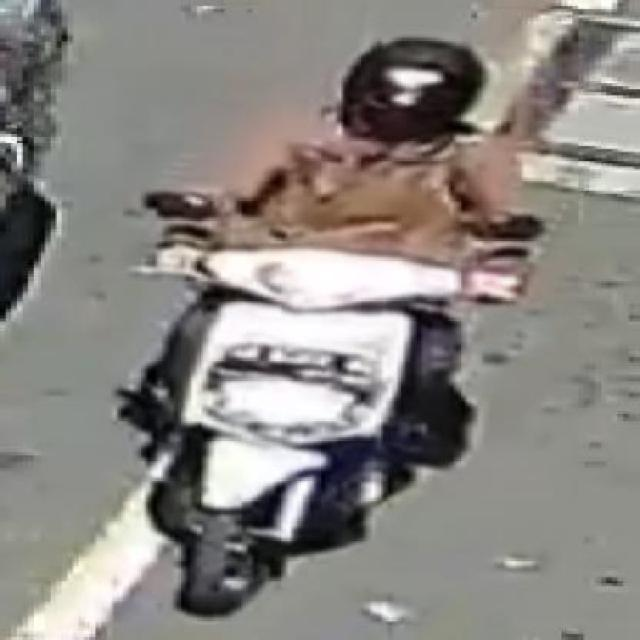helmet: (326, 30, 500, 152)
motorcycle: (111, 20, 549, 620)
